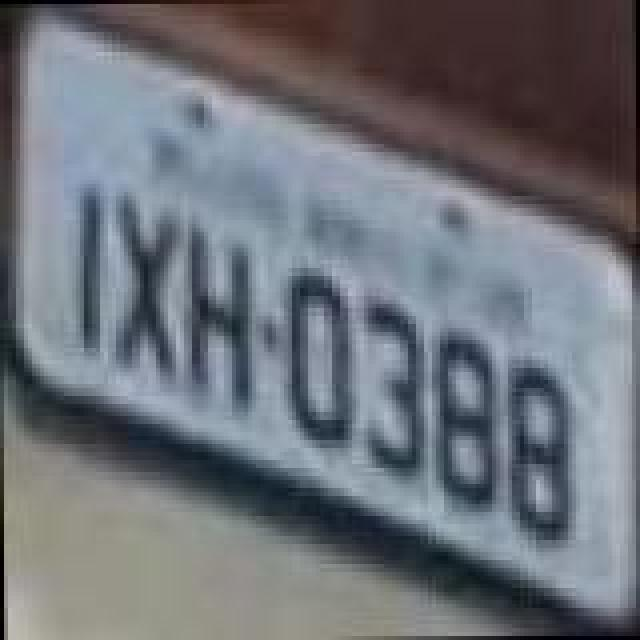1: (72, 182, 112, 362)
3: (358, 298, 430, 482)
8: (432, 326, 500, 518), (504, 360, 572, 544)
H: (184, 222, 256, 422)
O: (284, 274, 356, 446)
X: (112, 194, 192, 386)
